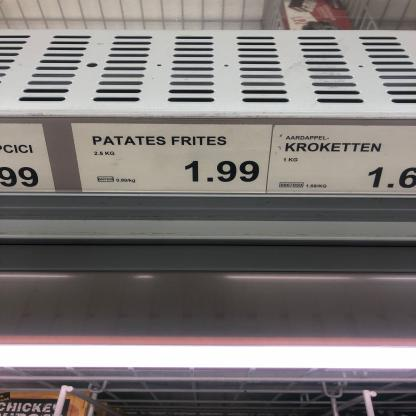prtg: (73, 123, 275, 194), (267, 125, 416, 196), (1, 124, 58, 193)
